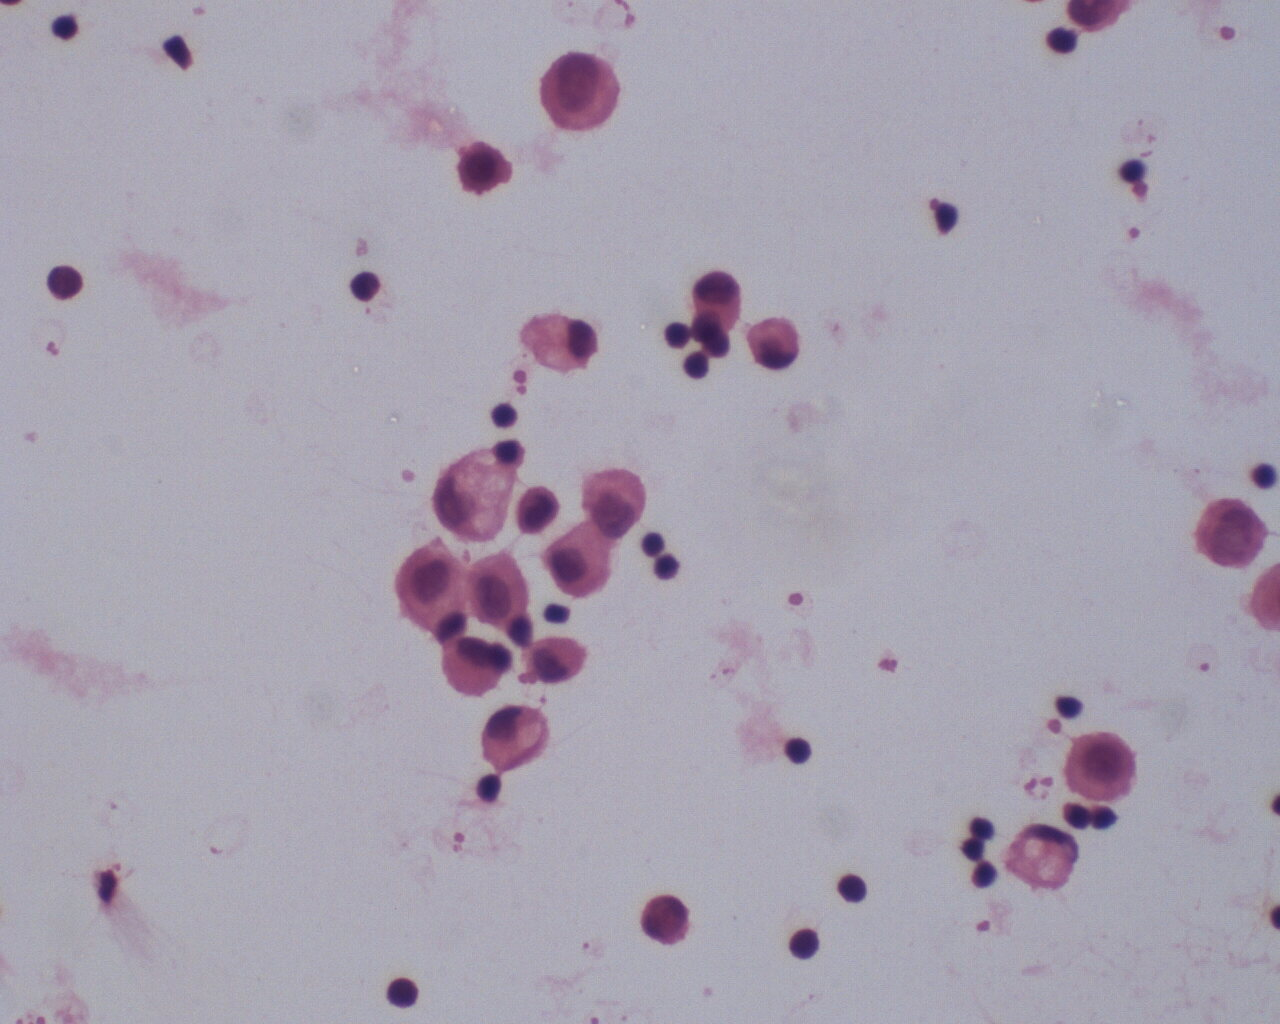ab: (534, 49, 623, 138), (1191, 494, 1269, 573)
histo: (428, 444, 516, 546), (475, 700, 556, 772), (999, 823, 1076, 897)
lymph: (42, 259, 88, 309), (830, 861, 872, 907), (345, 266, 387, 306), (385, 971, 421, 1015), (784, 924, 821, 963), (489, 396, 527, 430), (779, 729, 813, 765), (679, 351, 711, 383)
meso: (387, 541, 483, 637), (463, 550, 538, 633), (1061, 731, 1144, 807), (545, 527, 619, 603), (450, 132, 521, 199)
